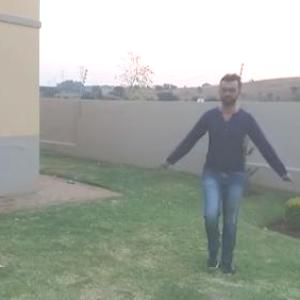land: (168, 74, 299, 276)
